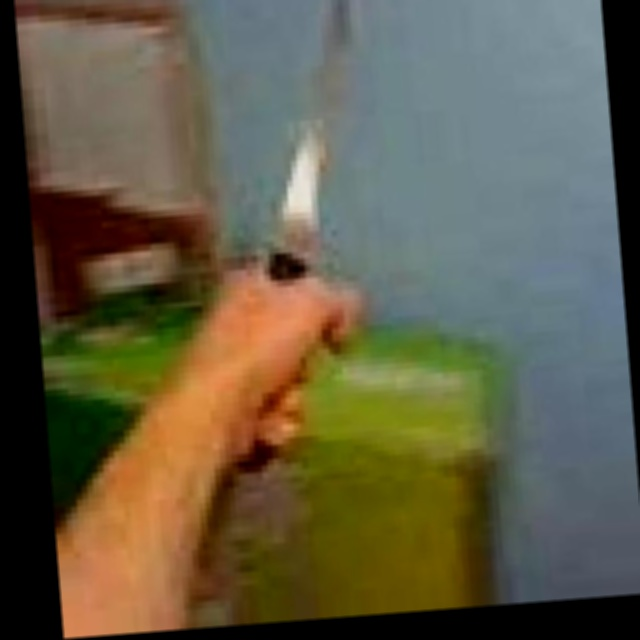Sharp-Object: (199, 0, 382, 480)
